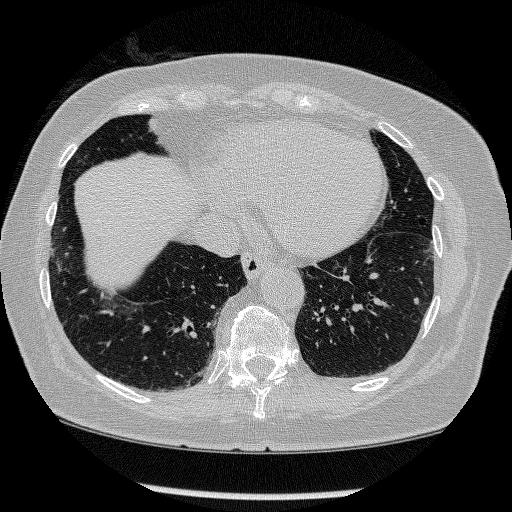nodule: (410, 295, 422, 307)
